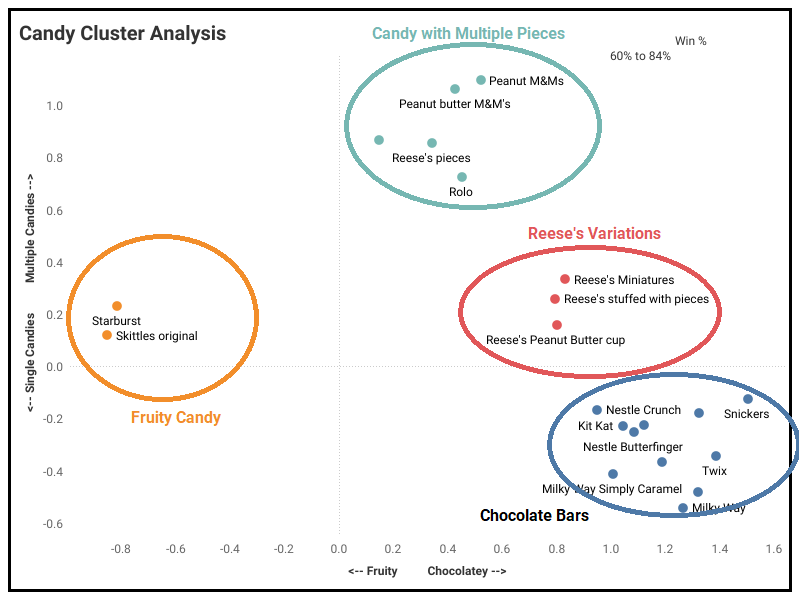

What the dashboard file says about the page in this screenshot:
{"tool":"tableau","page":{"name":"Candy Cluster","canvas":[800,600],"ordinal":0},"visuals":[{"type":"worksheet","title":"Candy Analysis","mark":"Automatic","rows":["y_jitter"],"cols":["x_jitter"],"box":[11,11,778,578]},{"type":"filter","title":"Candy Analysis","param":"[federated.0xrqofv19bke181d4tk4o0kpzggn].[sum:winpercent:qk]","box":[607,32,168,60]}]}

Visuals, with their boxes in screenshot pixels (x1, y1, x2, y2), scaled from the page's 800x600 canvas onto the 799x599 screenshot:
"Candy Analysis" worksheet: locate(11, 11, 788, 588)
"Candy Analysis" filter: locate(606, 32, 774, 92)
